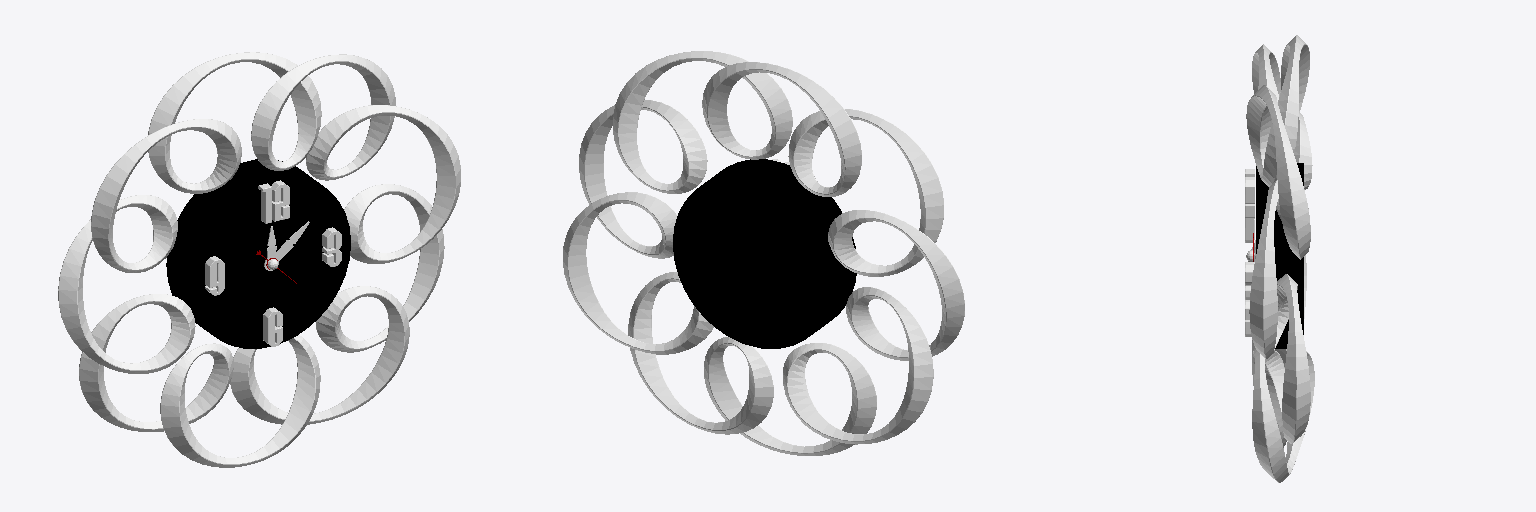
The model's file is clock01_POSER.obj.
3 renders of one model, left to right at view 1: azimuth 30°, elevation 25°; view 2: azimuth 150°, elevation 25°; view 3: azimuth 270°, elevation 25°, orthographic.
Visible parts, largest first — view 1: clock01, clock01_face, clock01_digits; view 2: clock01, clock01_face; view 3: clock01, clock01_face, clock01_digits.
Boxes of the visible parts, box(x1,y1,x2,y2) form: clock01: box(58, 52, 460, 467); clock01_face: box(166, 159, 350, 348); clock01_digits: box(205, 180, 341, 346); clock01: box(563, 51, 964, 455); clock01_face: box(673, 159, 856, 348); clock01: box(1246, 35, 1314, 482); clock01_face: box(1256, 163, 1303, 348); clock01_digits: box(1245, 169, 1254, 336).
Bounding box in the file's own units: 0.1644 × 0.1596 × 0.0252.